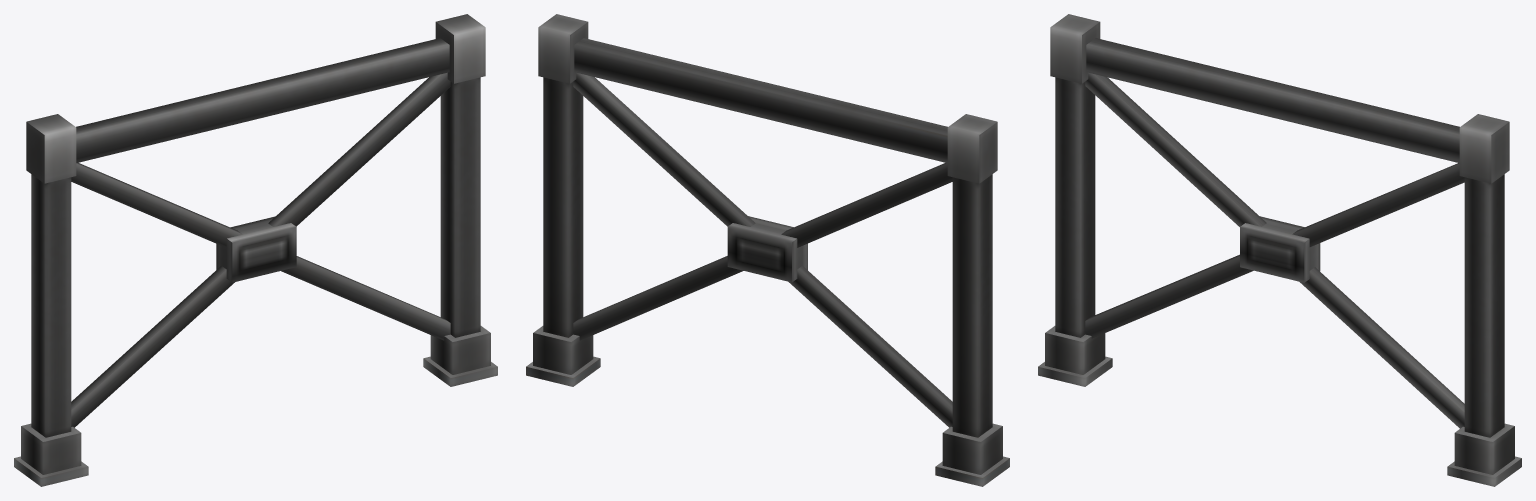
File: Grid_Full.FBX
3 renders of one model, left to right at view 1: azimuth 30°, elevation 25°; view 2: azimuth 150°, elevation 25°; view 3: azimuth 330°, elevation 25°, orthographic.
Visible parts, largest first — view 1: Grid_Full; view 2: Grid_Full; view 3: Grid_Full.
Part boxes in pixels (box(x1,y1,x2,y2)): Grid_Full: box(14, 14, 497, 486); Grid_Full: box(526, 14, 1009, 486); Grid_Full: box(1038, 14, 1521, 486).
Bounding box in the file's own units: 685 × 497 × 70.88.
